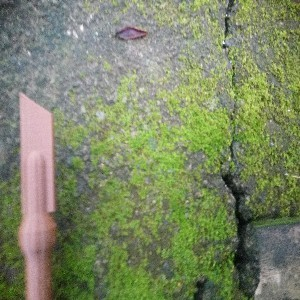cutter: (15, 91, 56, 300)
